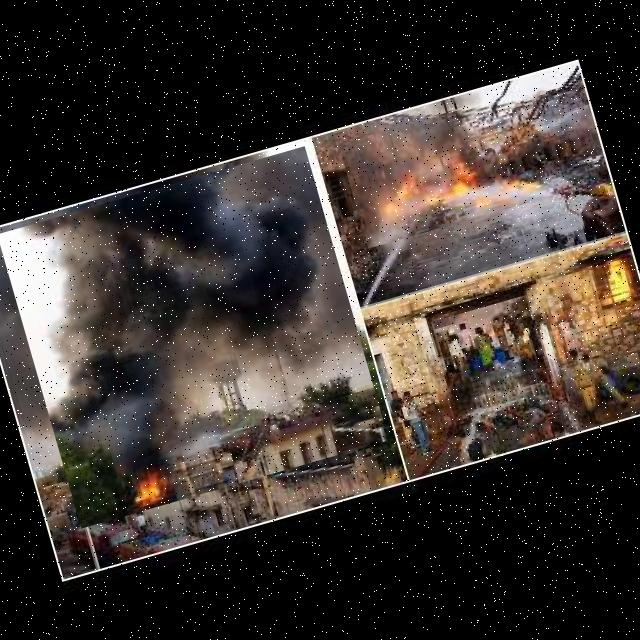fire: (0, 145, 388, 527), (338, 91, 551, 248)
